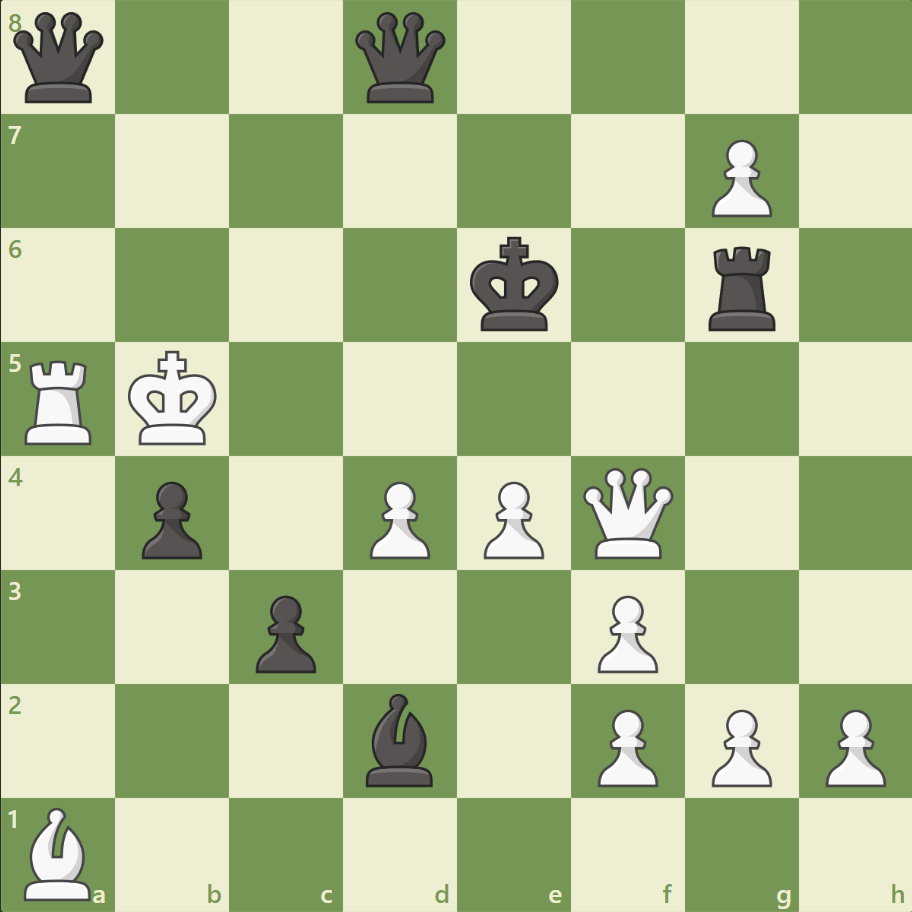B: (17, 801, 101, 904)
K: (124, 344, 224, 452)
P: (701, 132, 776, 223), (474, 473, 549, 564), (701, 700, 776, 791), (361, 473, 435, 564), (588, 586, 662, 677), (588, 700, 662, 791), (815, 700, 889, 791)
Q: (578, 463, 677, 562)
R: (19, 352, 102, 449)
b: (358, 687, 442, 790)
k: (465, 231, 565, 339)
p: (133, 473, 208, 564), (247, 586, 322, 677)
q: (10, 9, 109, 108), (351, 9, 450, 108)
r: (700, 239, 783, 336)
